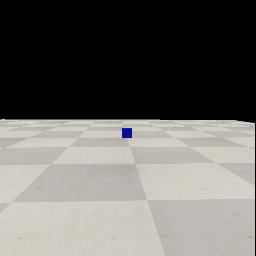box: (122, 128, 132, 138)
